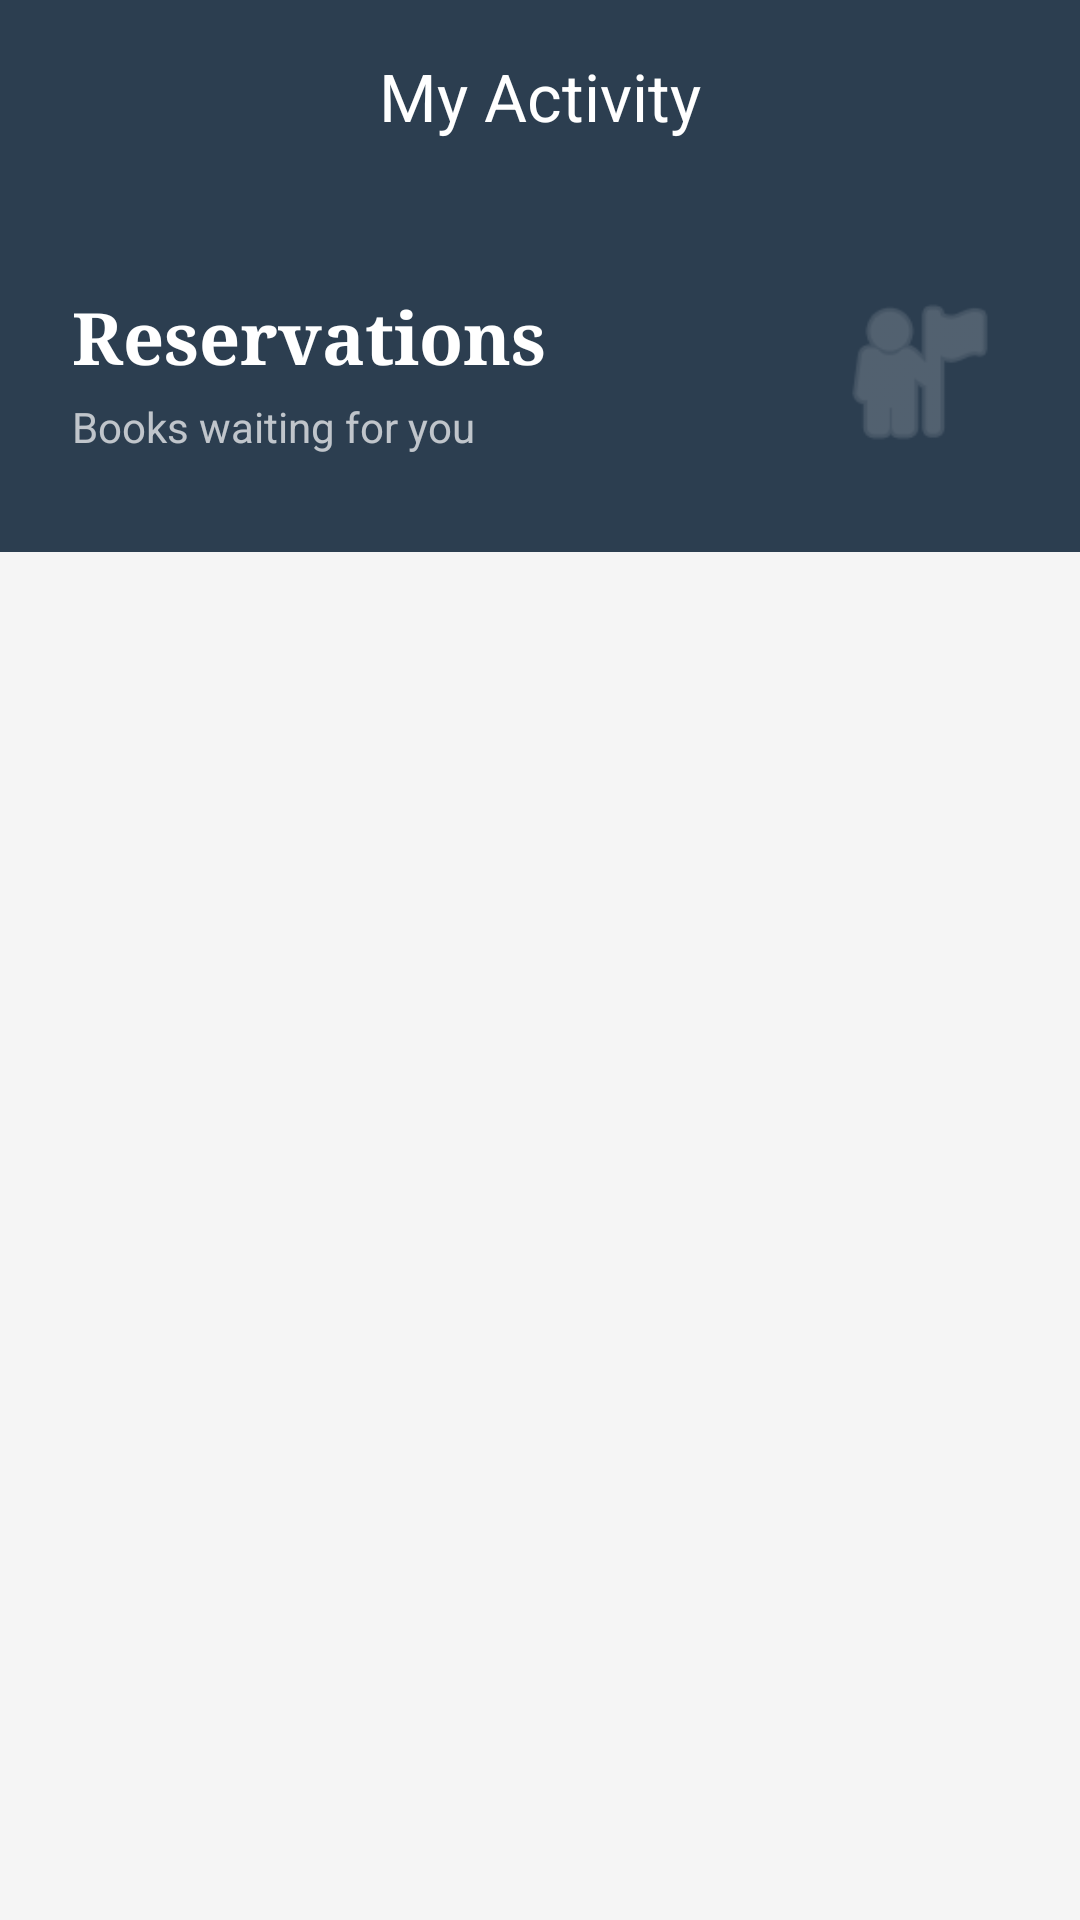

Icons on this 1080 x 1920 Android screen, each with the point to tap as point (x, y):
myplaces: point (920, 372)
